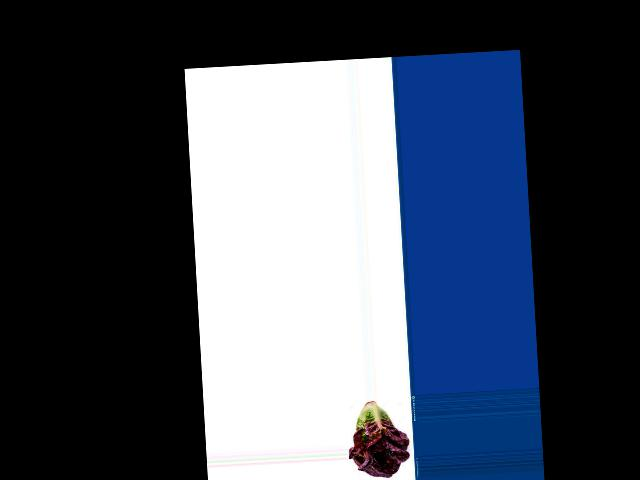lettuce: (348, 398, 411, 478)
